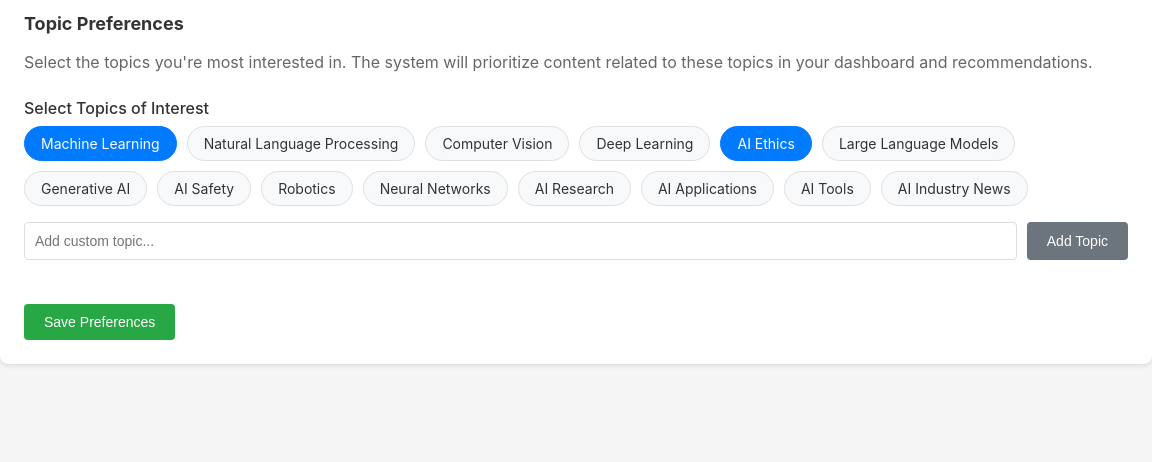
TopicPreferences Component › allows adding custom topics
The width and height of the screenshot is (1152, 462).
Type "Custom AI Topic" into the field with placeholder "Add custom topic...".
click(520, 241); type("Custom AI Topic")  # box 24,222 -> 1017,260
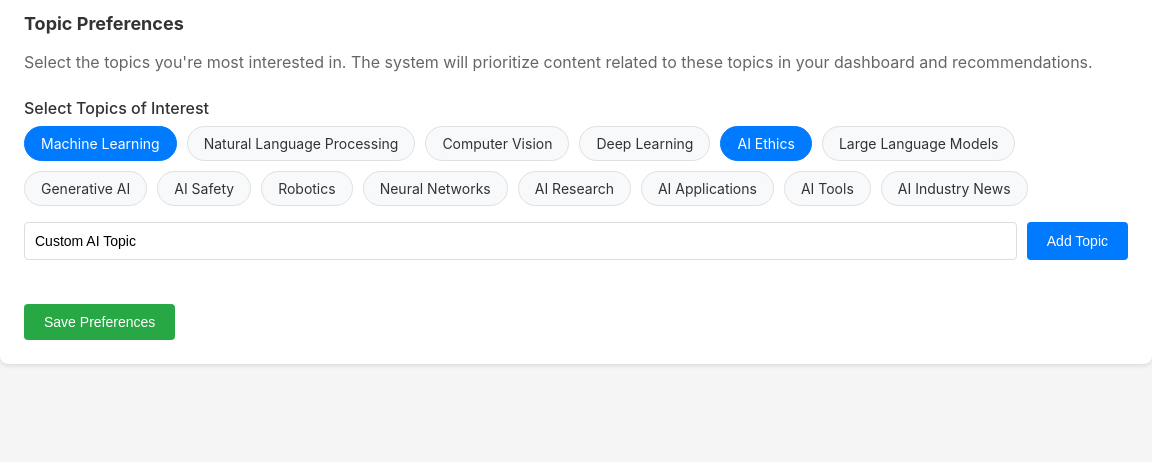
Click the button "Add Topic".
click(1077, 241)  # box 1027,222 -> 1128,260
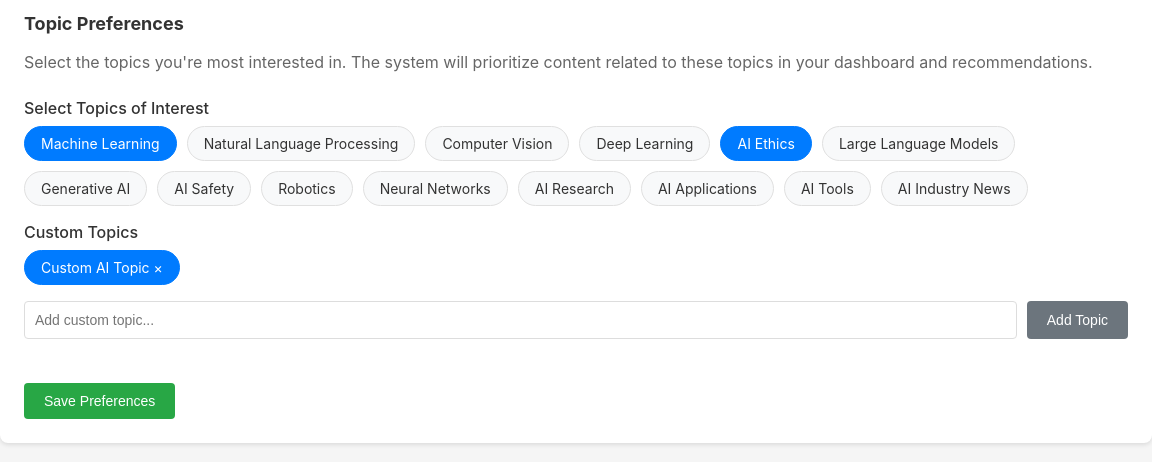
Now the text "Custom AI Topic ×" is shown, box 24,250 -> 180,285
Now the field with placeholder "Add custom topic..." is empty, box 24,301 -> 1017,339
